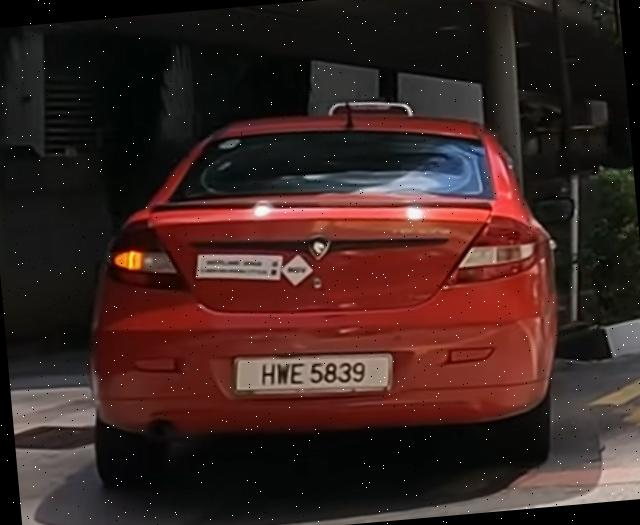License_Plate: (228, 342, 395, 405)
car: (65, 83, 577, 505)
